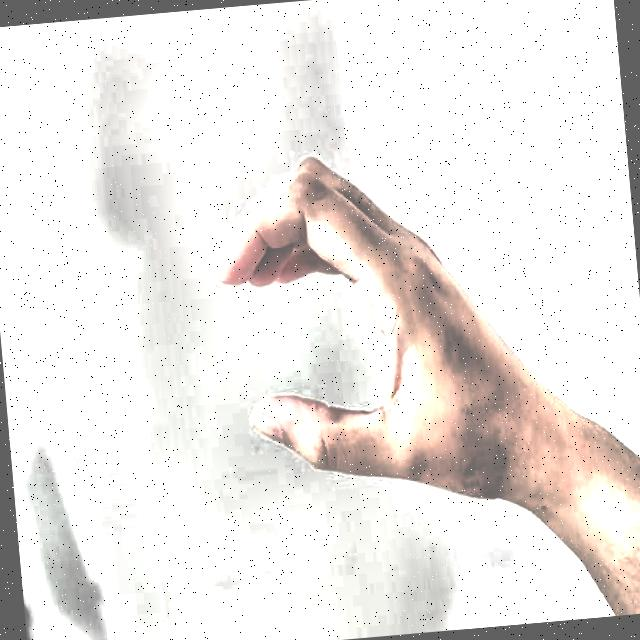A: (174, 122, 515, 550)
